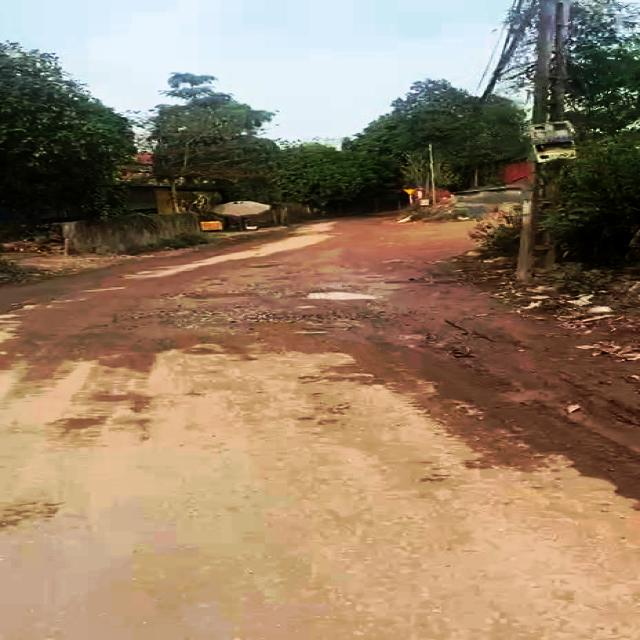pothole: (135, 306, 366, 334), (170, 286, 264, 303), (296, 286, 388, 303)
